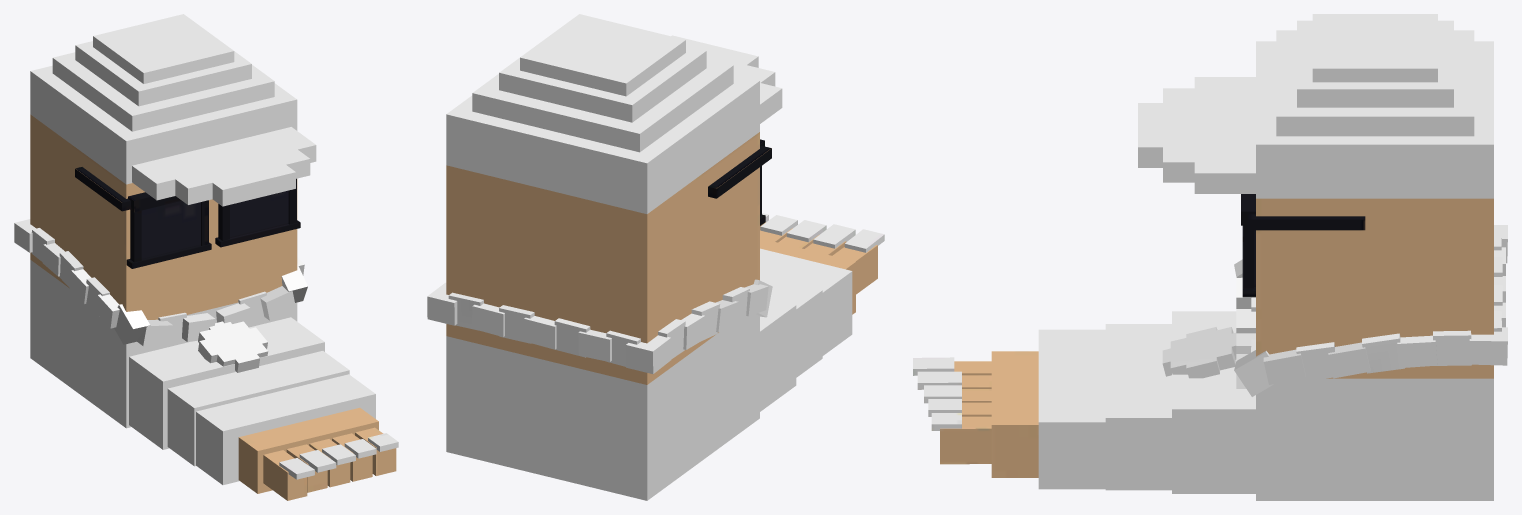
Rendered from GangsterFootera.obj.
3 views of the same model, side by side, from view 1: azimuth 30°, elevation 25°; view 2: azimuth 150°, elevation 25°; view 3: azimuth 270°, elevation 25° (orthographic). The views are drawn at different scales.
Visible parts, largest first — view 1: GangsterFootera_3, GangsterFootera_0, GangsterFootera_4, GangsterFootera_1, GangsterFootera_2; view 2: GangsterFootera_3, GangsterFootera_0, GangsterFootera_4, GangsterFootera_1, GangsterFootera_2; view 3: GangsterFootera_4, GangsterFootera_0, GangsterFootera_3, GangsterFootera_1, GangsterFootera_2.
Boxes of the visible parts, <box> form: GangsterFootera_3: <box>30,114,398,500</box>; GangsterFootera_0: <box>30,14,316,206</box>; GangsterFootera_4: <box>30,260,375,484</box>; GangsterFootera_1: <box>14,219,307,372</box>; GangsterFootera_2: <box>227,302,360,417</box>; GangsterFootera_3: <box>446,132,884,384</box>; GangsterFootera_0: <box>446,14,782,213</box>; GangsterFootera_4: <box>446,248,852,500</box>; GangsterFootera_1: <box>427,279,772,373</box>; GangsterFootera_2: <box>473,342,528,471</box>; GangsterFootera_4: <box>1038,311,1493,500</box>; GangsterFootera_0: <box>1138,14,1493,198</box>; GangsterFootera_3: <box>913,194,1493,477</box>; GangsterFootera_1: <box>1162,225,1507,396</box>; GangsterFootera_2: <box>1038,371,1255,412</box>.
Bounding box in the file's own units: 1.92 × 3.13 × 4.13.
5 materials, 1 textured.
